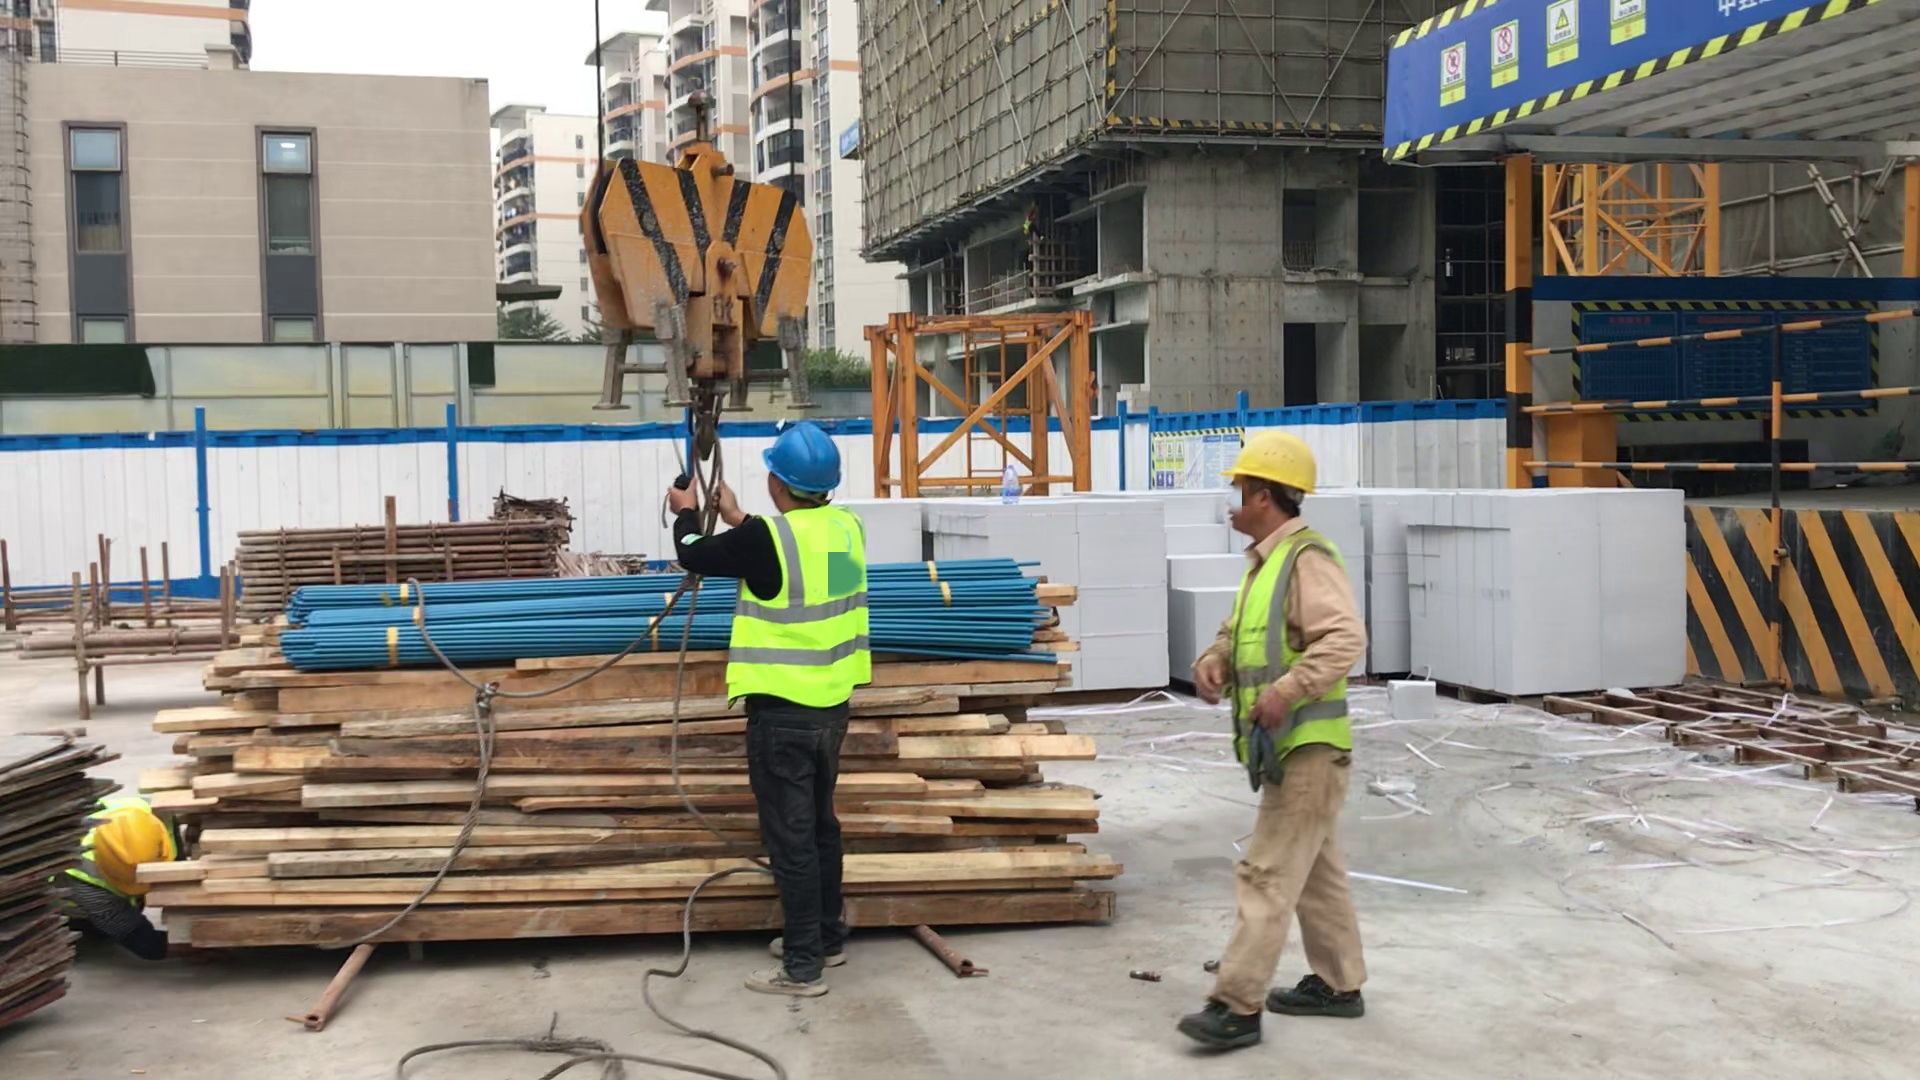brick: (1350, 486, 1692, 700), (957, 495, 1201, 680)
ebox: (1535, 394, 1614, 482)
helmet: (94, 795, 168, 895), (1229, 432, 1321, 501), (765, 427, 841, 499)
hook: (594, 140, 815, 454)
person: (1184, 433, 1369, 1057), (721, 421, 863, 1006)
scaffold: (240, 527, 561, 600)
slogan: (1429, 1, 1650, 116)
vest: (729, 511, 867, 719), (1231, 541, 1351, 763)
wood: (172, 658, 1149, 935)
